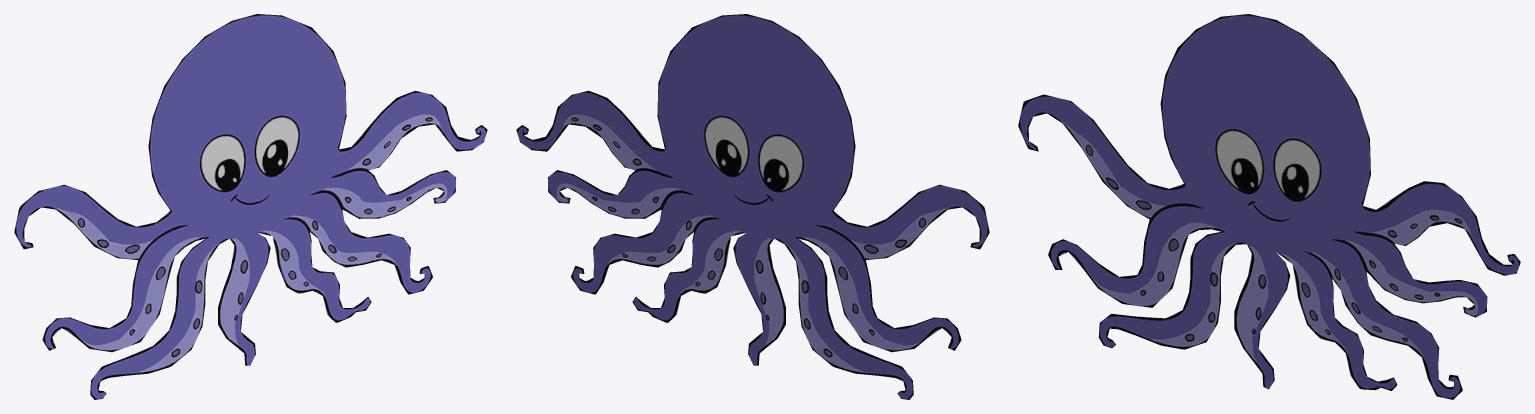
Rendered from potitepieuvre.obj.
The picture shows the model from 3 angles, left to right: view 1: azimuth 30°, elevation 25°; view 2: azimuth 150°, elevation 25°; view 3: azimuth 330°, elevation 25°; orthographic projection. The views are drawn at different scales.
Bounding box in the file's own units: 0.7263 × 0.5129 × 0.
